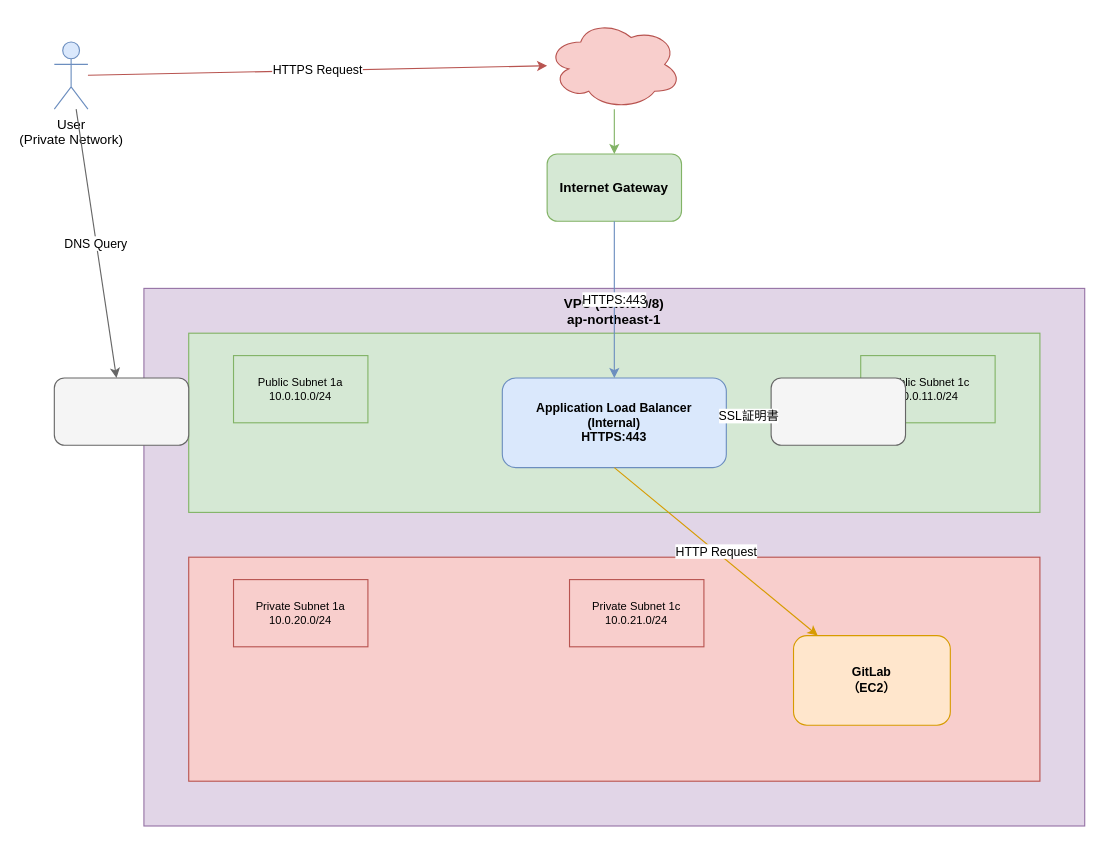
Image size: 1104x846. Some labels were removed from this diagram. The shapes that lost their labels are listed below. From the top down, each one's box as (x1, y1, x2, y2) in pixels, then its label:
(546, 18, 682, 109): Internet
(53, 377, 189, 445): Route 53 Private Hosted Zone
(188, 332, 1040, 512): Public Subnets
(770, 377, 906, 445): ACM SSL/TLS証明書
(188, 556, 1040, 781): Private Subnets
